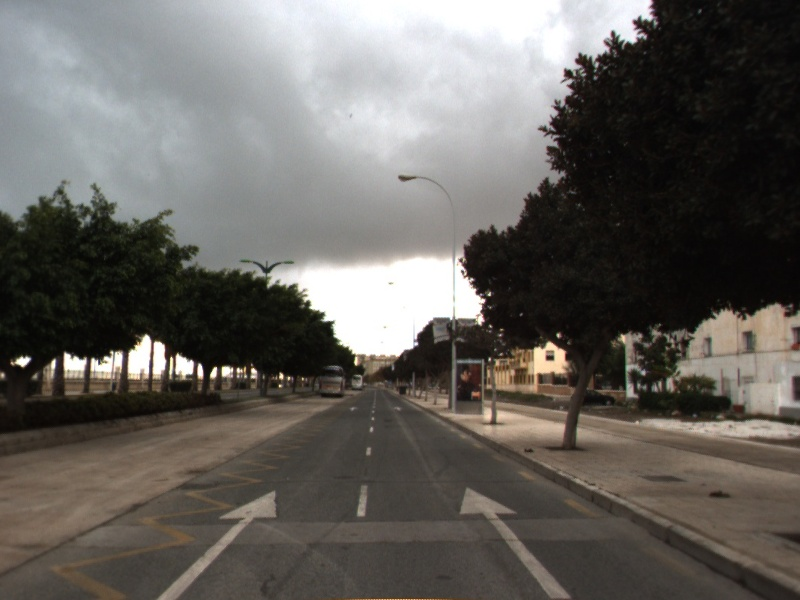STRAIGHT: (153, 486, 279, 600), (457, 484, 576, 600)
